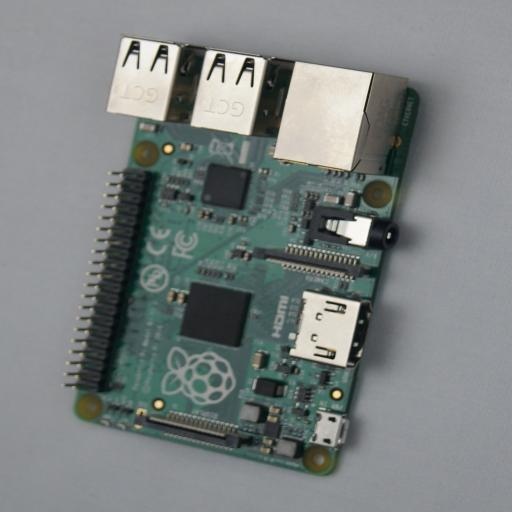Raspberry Pi 1 B-: (65, 36, 439, 476)
